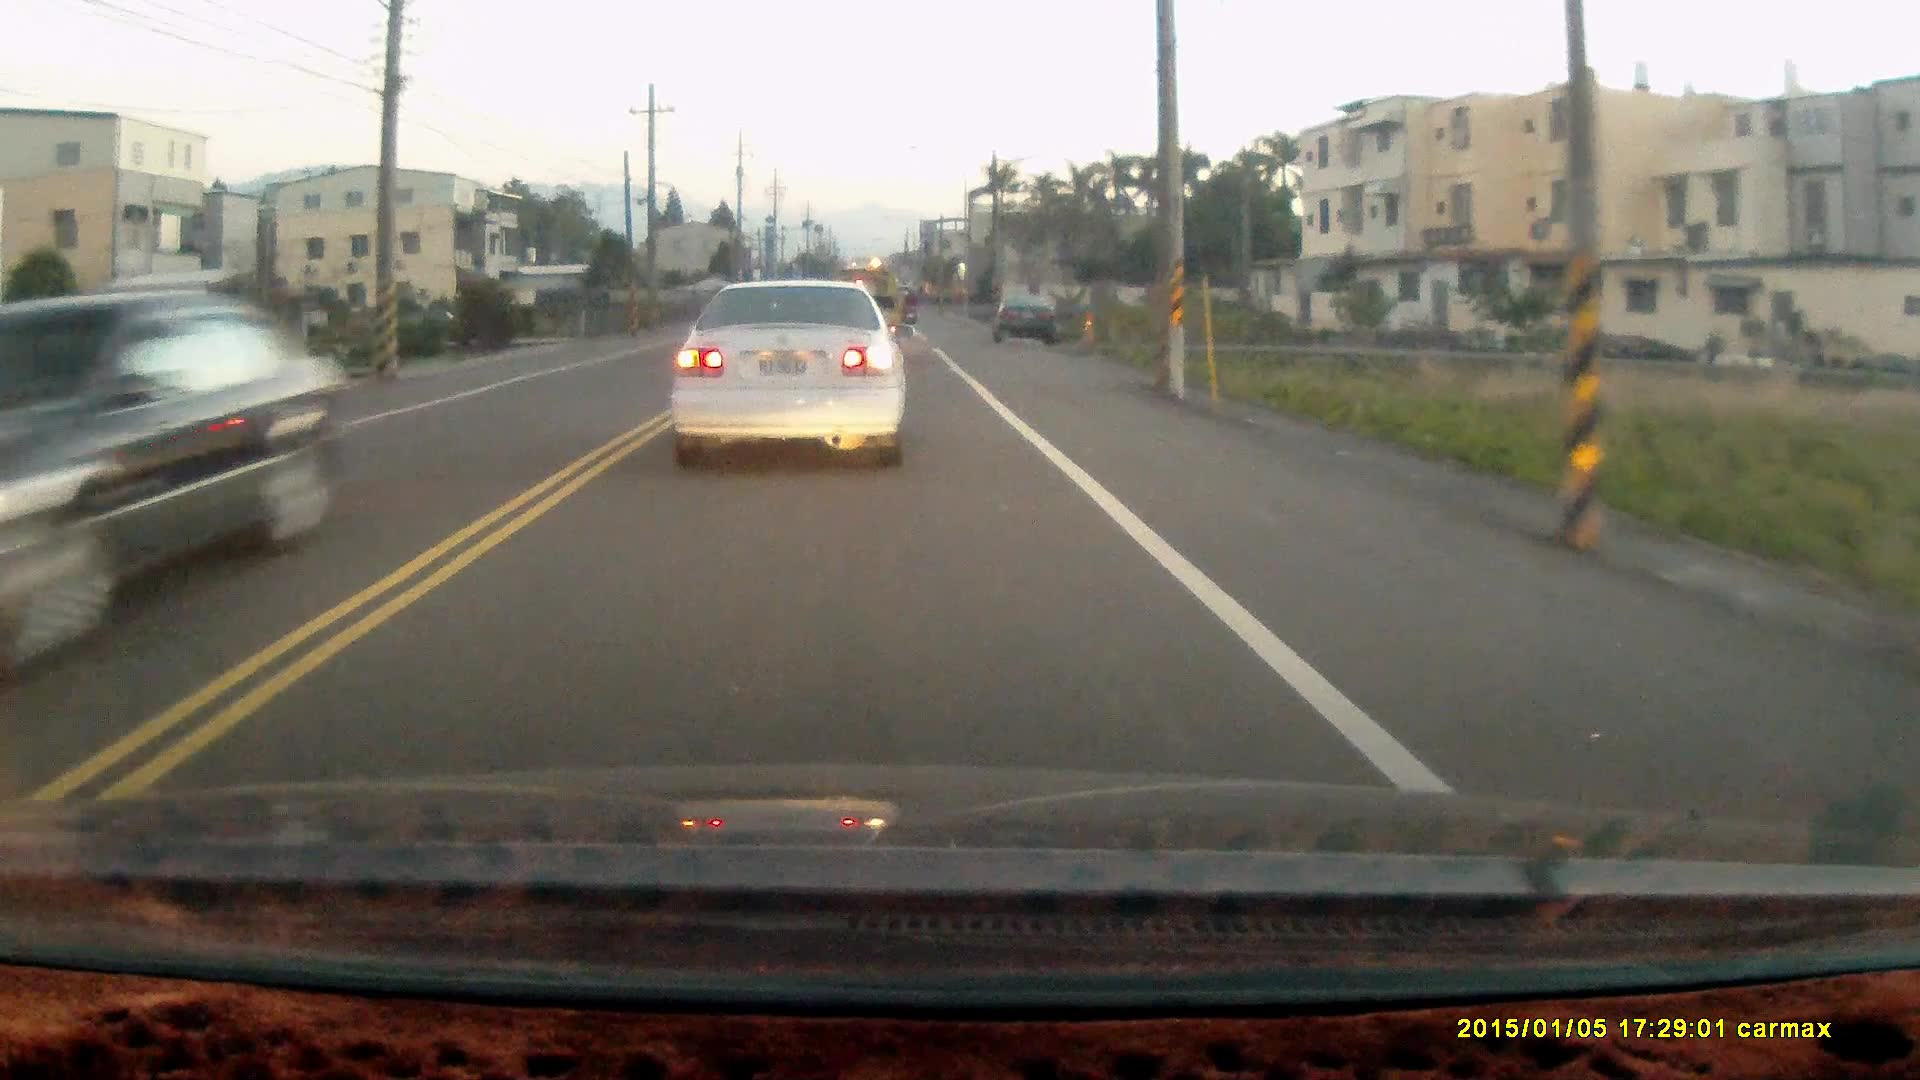vehicle: (7, 295, 351, 650), (669, 281, 910, 473), (998, 294, 1067, 352)
